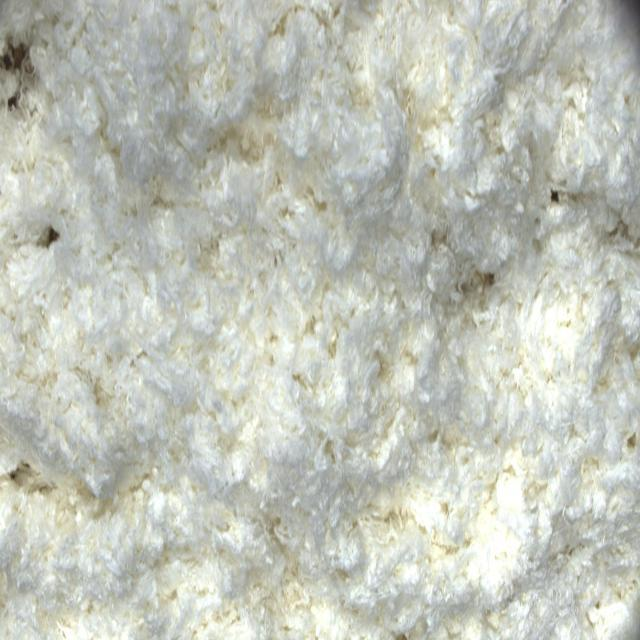dust: (3, 38, 36, 108), (39, 215, 65, 269)
